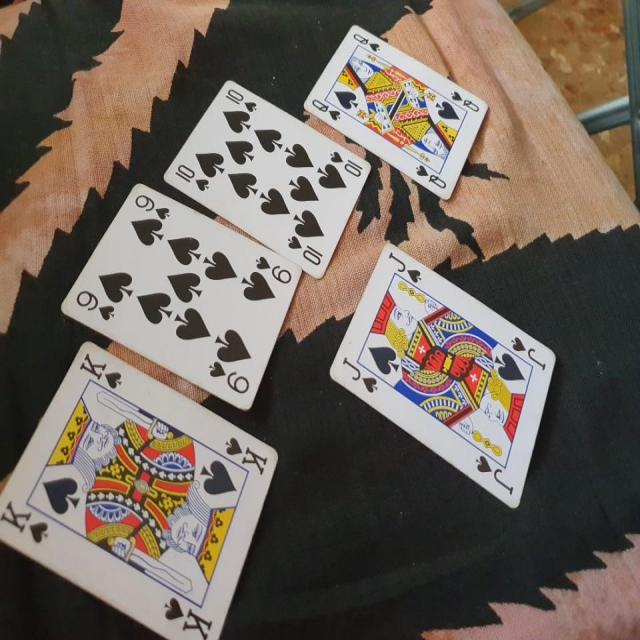10 Spades: (150, 73, 380, 278)
9 Spades: (49, 185, 312, 414)
J Spades: (330, 242, 559, 517)
K Spades: (1, 339, 283, 638)
Q Spades: (302, 22, 495, 203)
